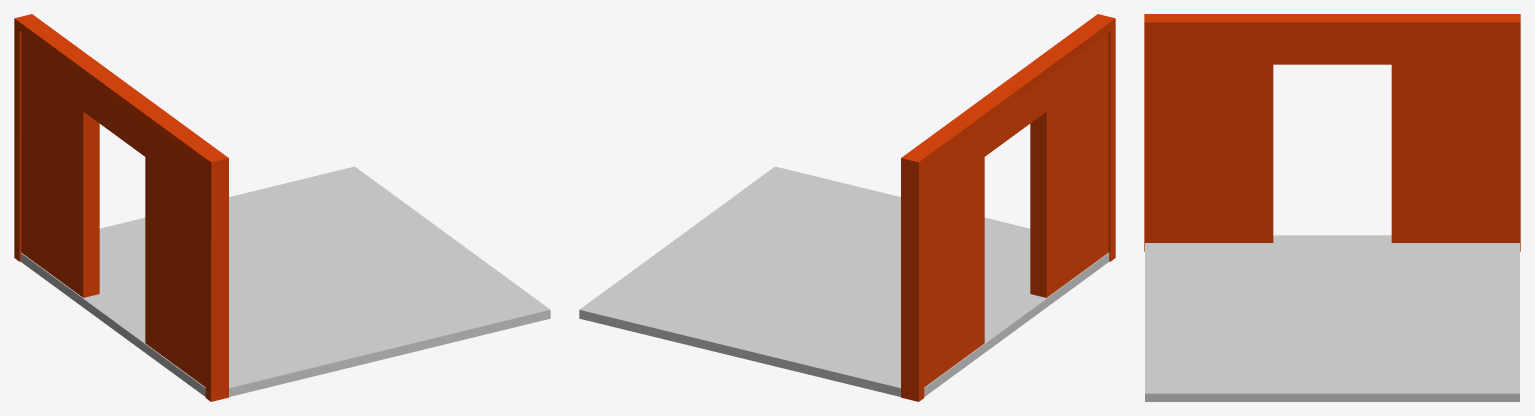
File: WoodenHouse.fbx
3 views of the same model, side by side, from view 1: azimuth 30°, elevation 25°; view 2: azimuth 150°, elevation 25°; view 3: azimuth 270°, elevation 25° (orthographic). The views are drawn at different scales.
Visible parts, largest first — view 1: Floor, Doorway; view 2: Floor, Doorway; view 3: Doorway, Floor.
Part boxes in pixels (x1=…): Floor: x1=20, y1=166, x2=550, y2=396; Doorway: x1=14, y1=14, x2=228, y2=401; Floor: x1=579, y1=166, x2=1109, y2=396; Doorway: x1=901, y1=14, x2=1115, y2=401; Doorway: x1=1144, y1=14, x2=1520, y2=251; Floor: x1=1145, y1=235, x2=1519, y2=401.
Bounding box in the file's own units: 401 × 270 × 402.
